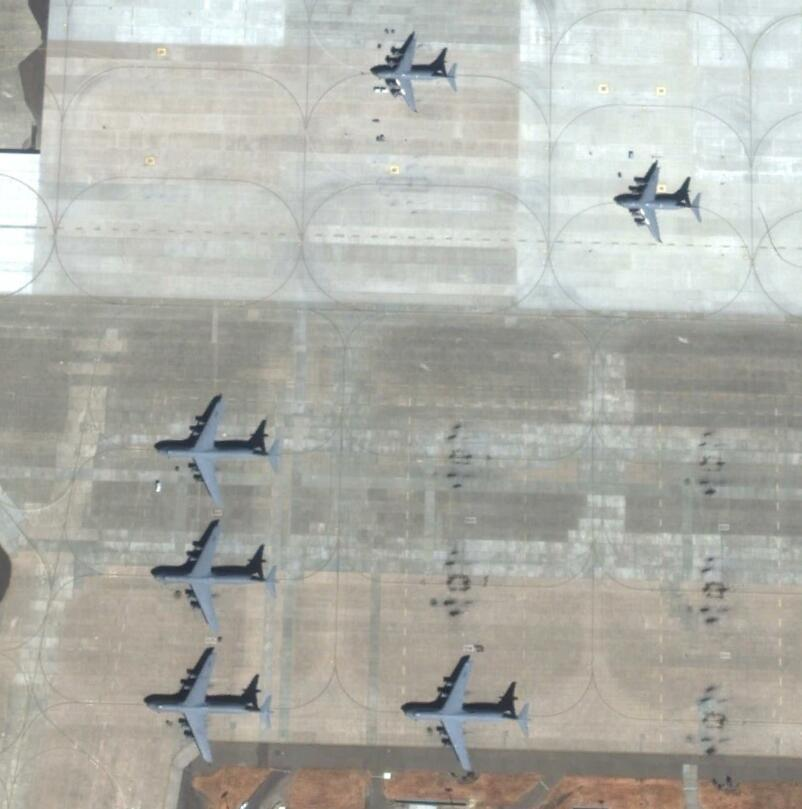A3: (613, 164, 701, 247), (373, 32, 457, 112)
A4: (145, 648, 273, 766), (151, 521, 281, 633), (402, 658, 530, 771), (153, 399, 285, 504)
